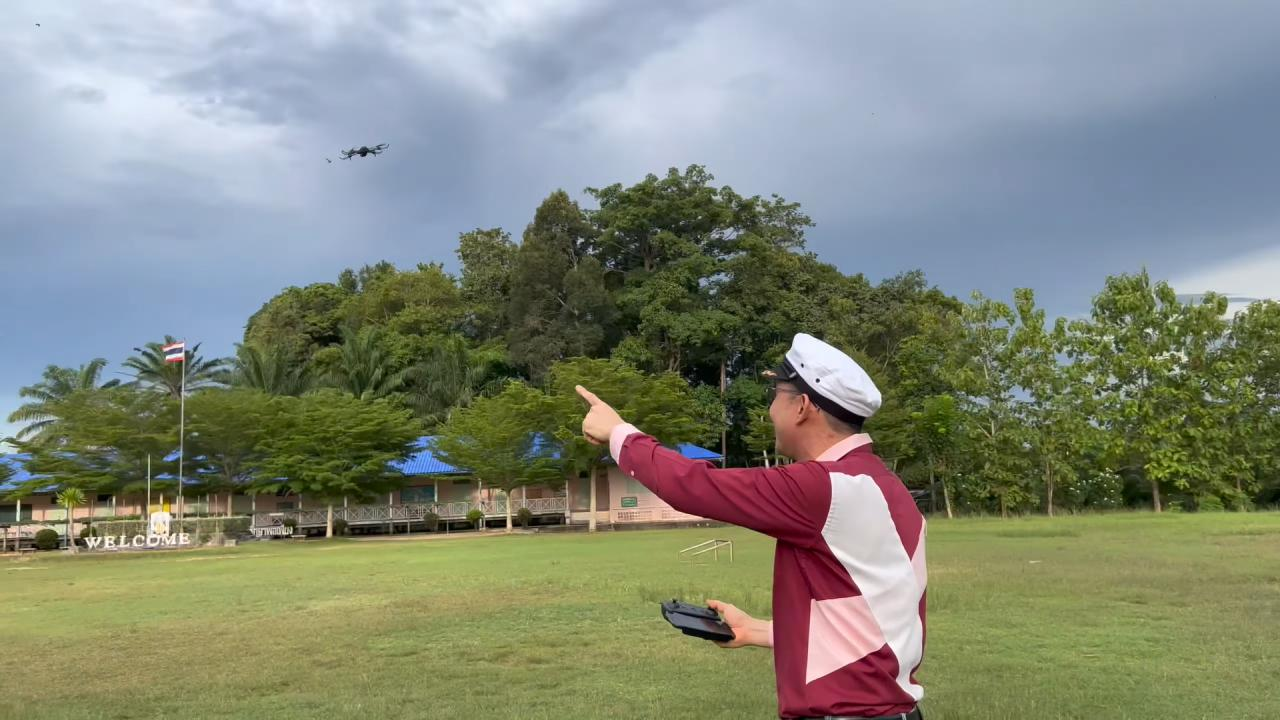Drone: (336, 135, 396, 169)
